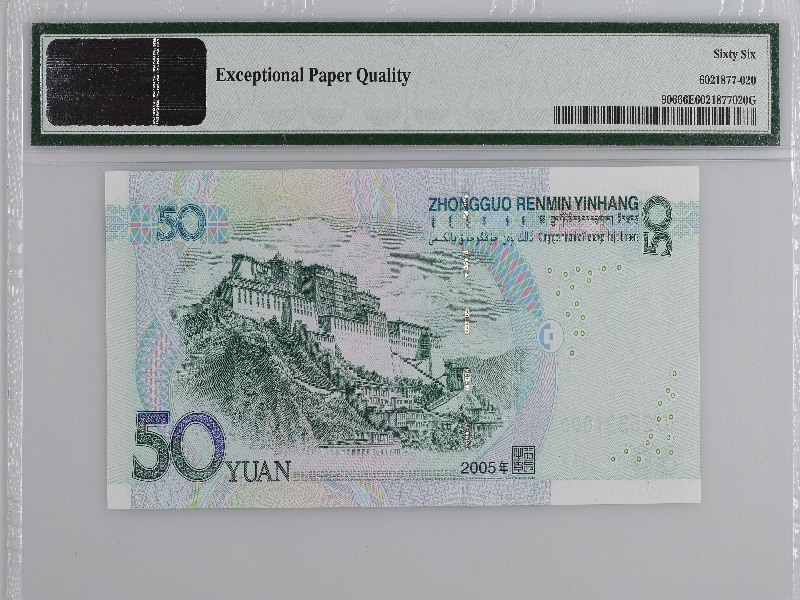papernote: (103, 169, 706, 511)
